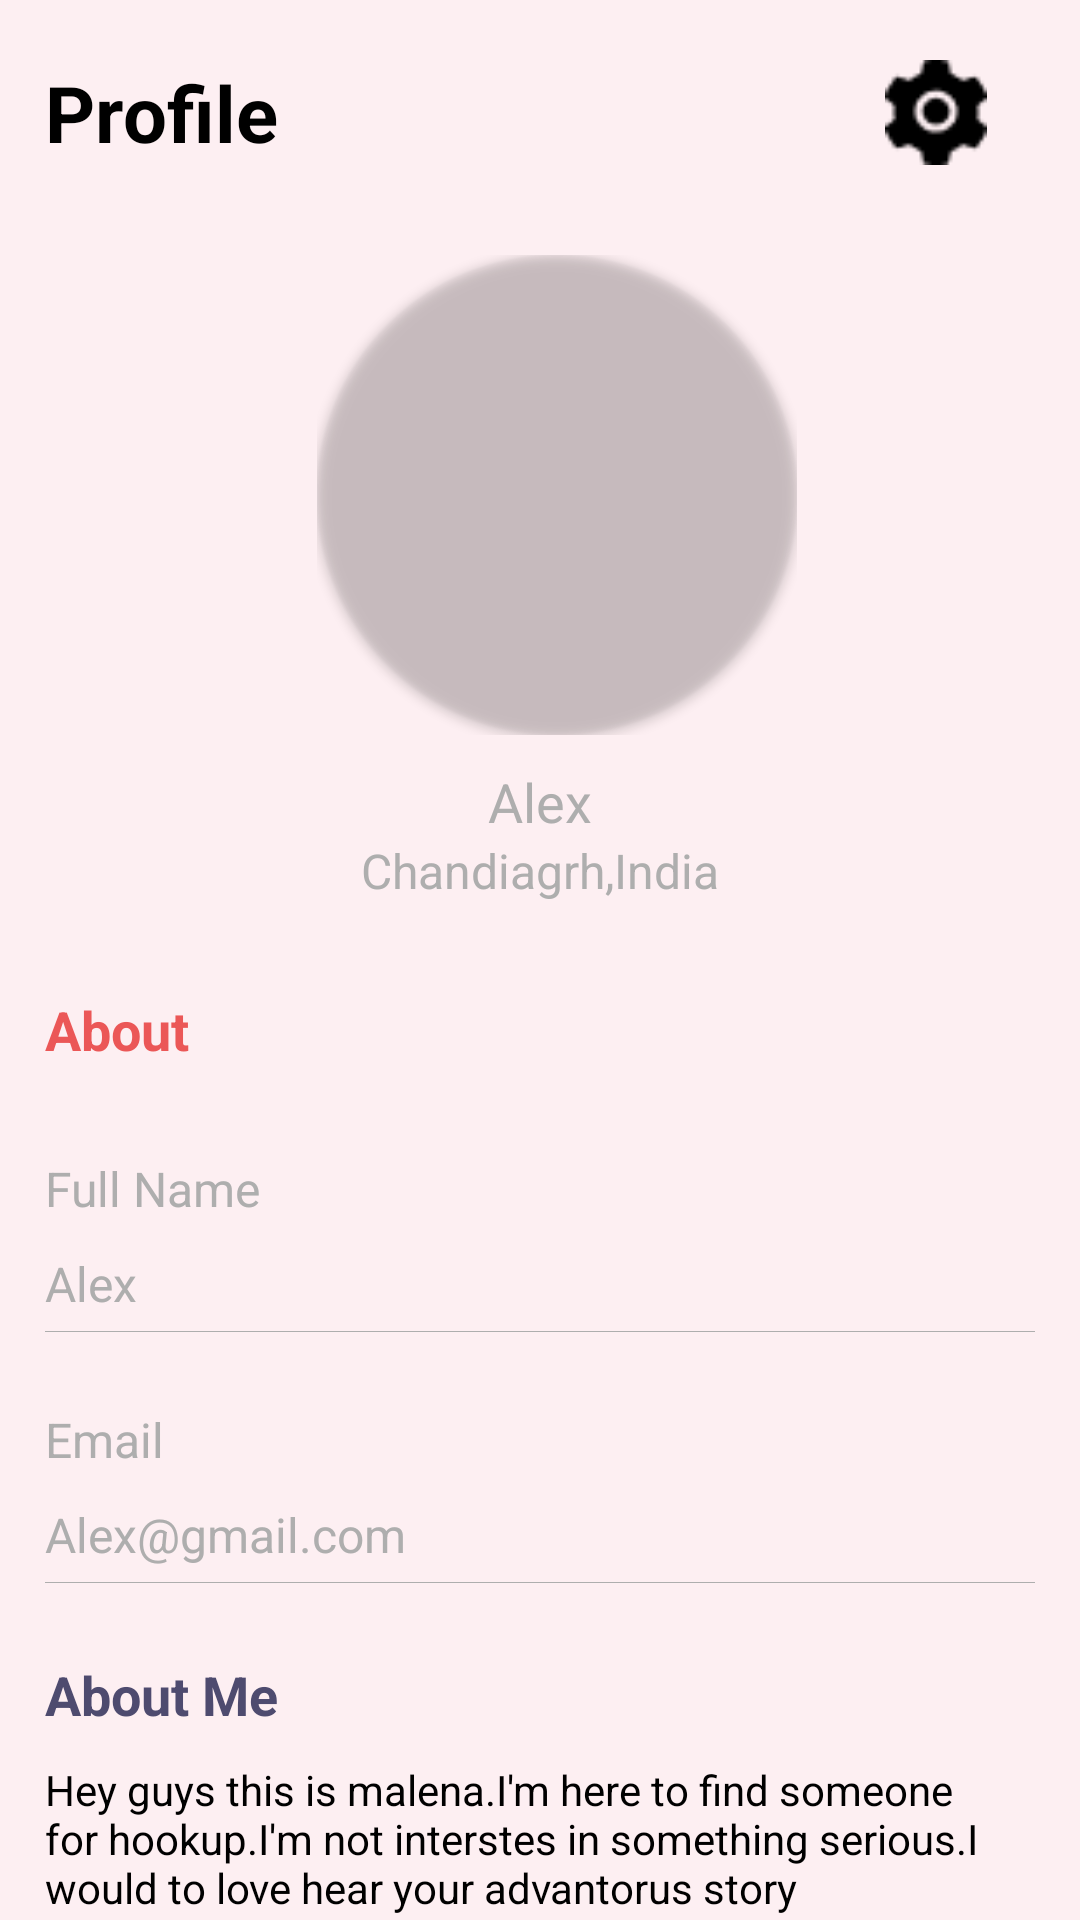

Locate icon controls on the screen. Image size 1080px x 1920px, boxes as BBox(x1, y1, x2, y2).
setting: BBox(885, 60, 987, 165)
